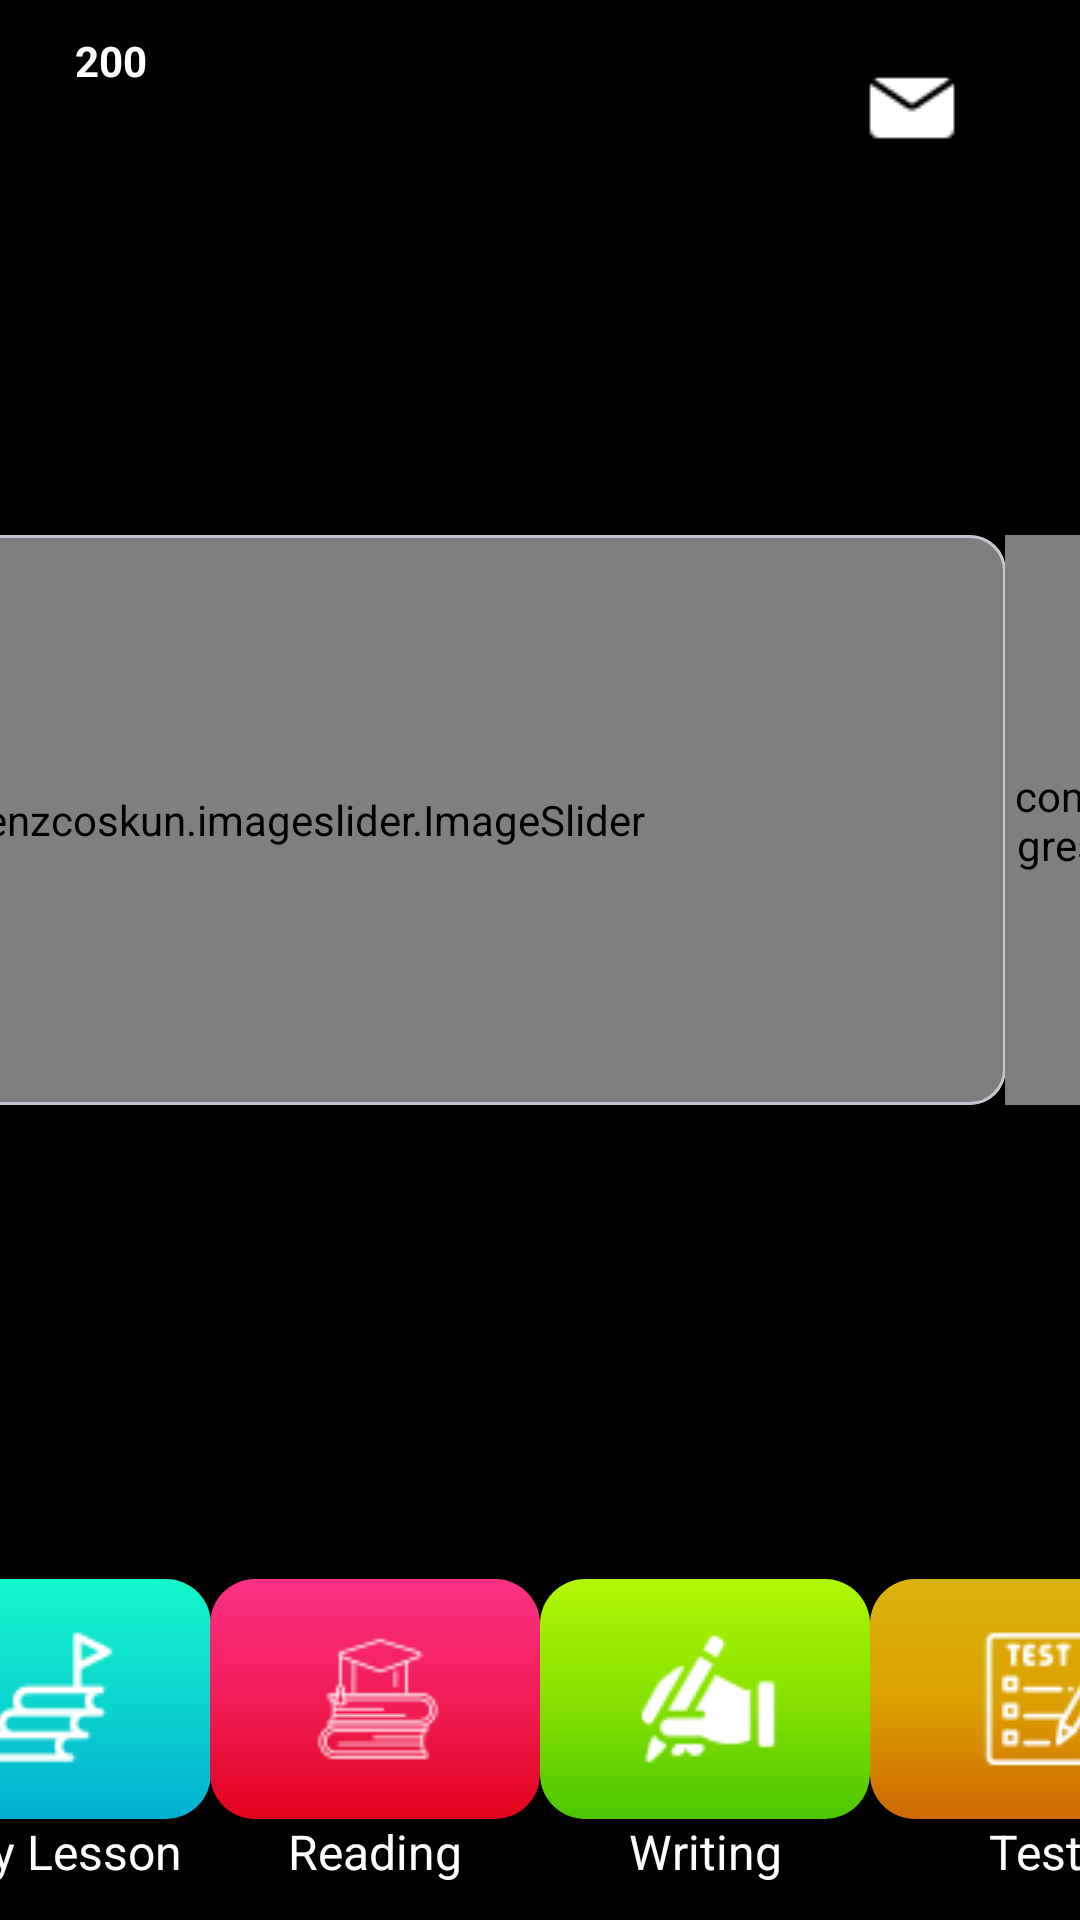

Where icons sit on this 1080w x 1920h app screen, as {"left": x1, "top": y1, "right": x2, "bottom": y2}:
messages: {"left": 869, "top": 77, "right": 955, "bottom": 139}
